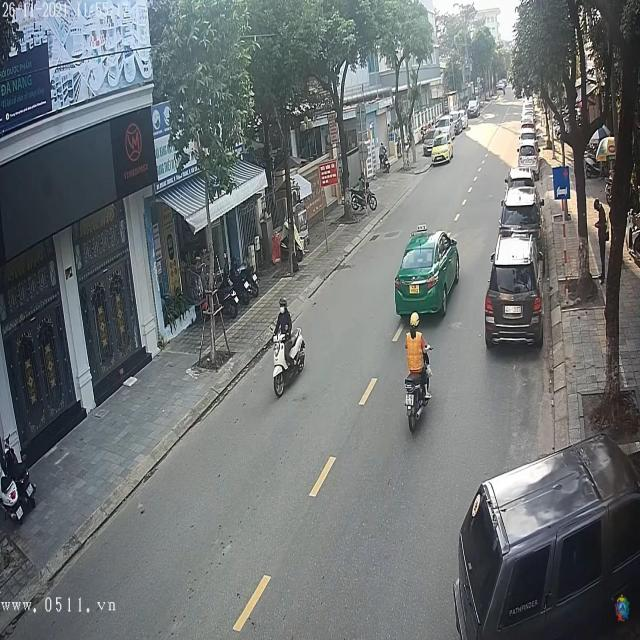car: (456, 432, 640, 640), (485, 242, 544, 351), (394, 231, 462, 320), (499, 190, 542, 238), (501, 176, 537, 217), (468, 99, 480, 117)
motorcycle: (402, 350, 435, 435), (272, 326, 305, 404)
